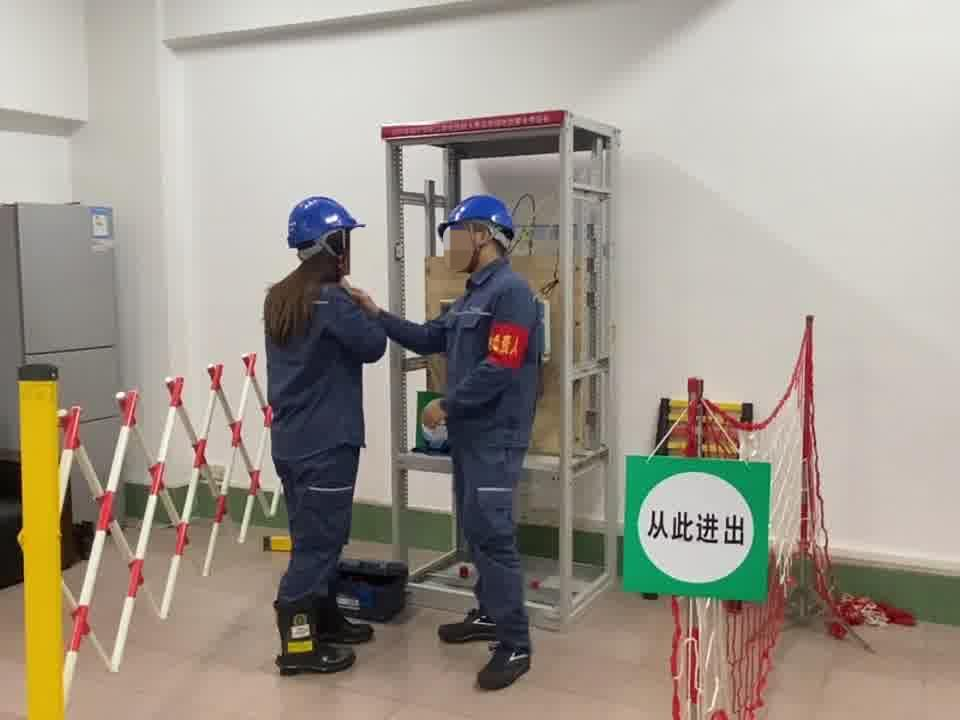halt: (442, 198, 520, 272)
inear: (468, 222, 498, 262)
